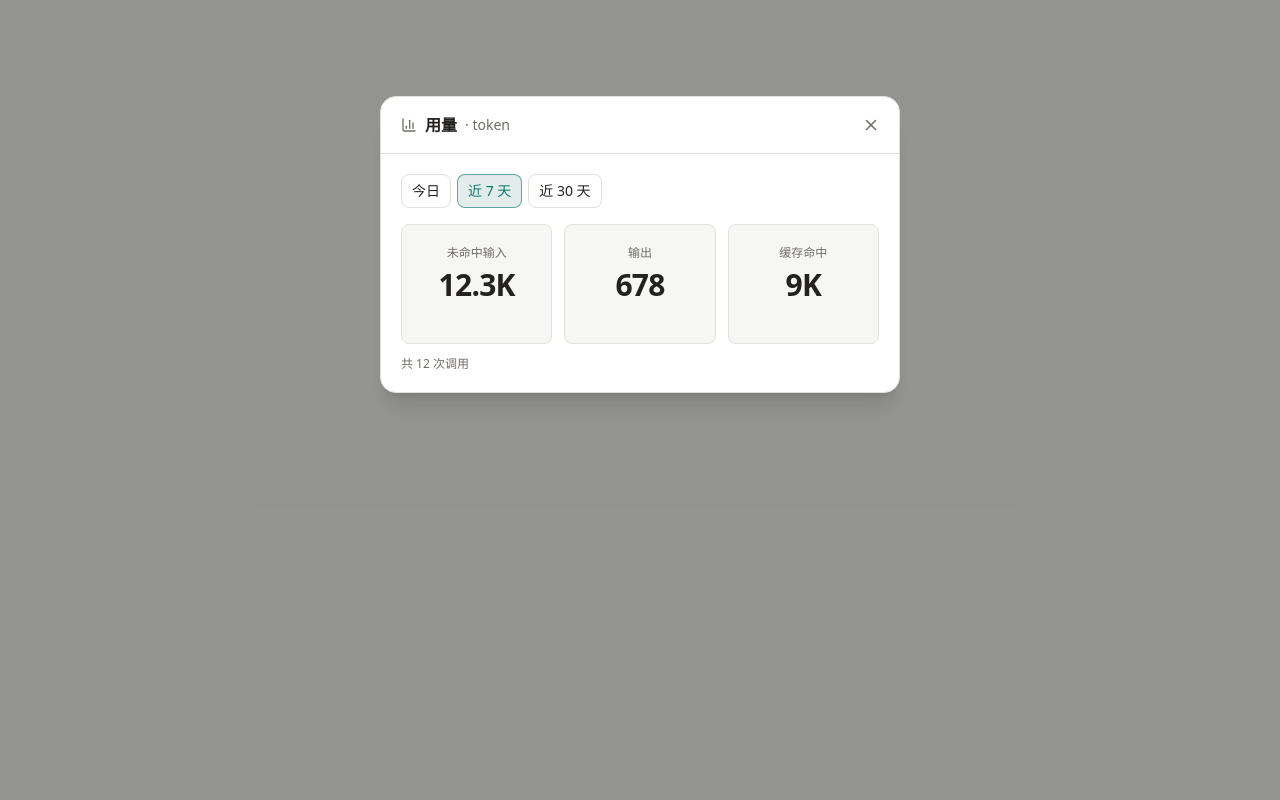
Scenario: UsageModal › 切范围会重新拉数据，并按新范围显示
This screenshot has width=1280, height=800.
Expected: the text "12.3K" is shown, x1=439 y1=267 x2=515 y2=303
Click the tab "今日" at (426, 191), box x1=401 y1=174 x2=451 y2=208
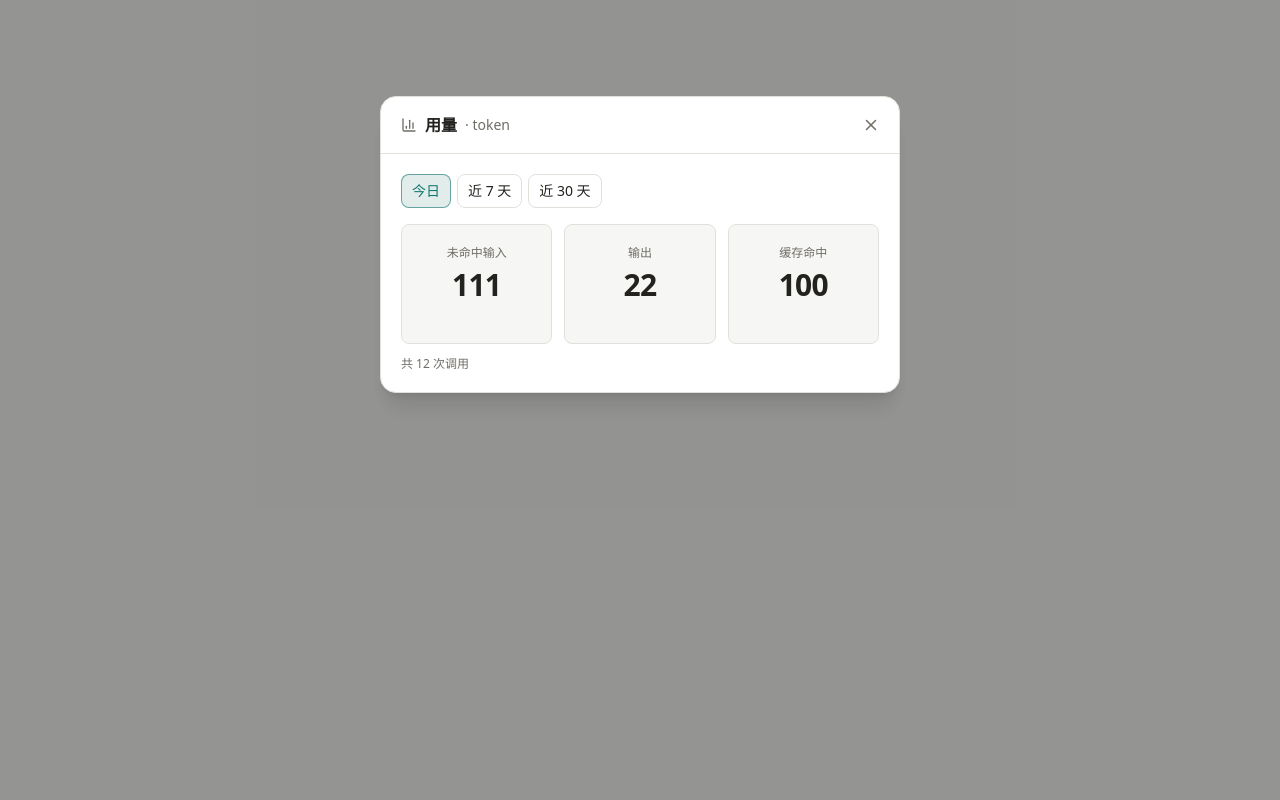
Expected: the text "111" is shown, x1=452 y1=267 x2=501 y2=303
Expected: the text "22" is shown, x1=624 y1=267 x2=656 y2=303
